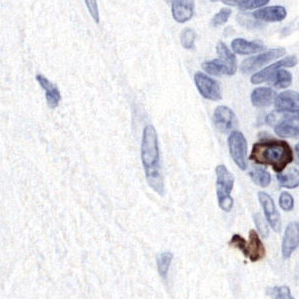Lymphocyte: (248, 141, 294, 174)
